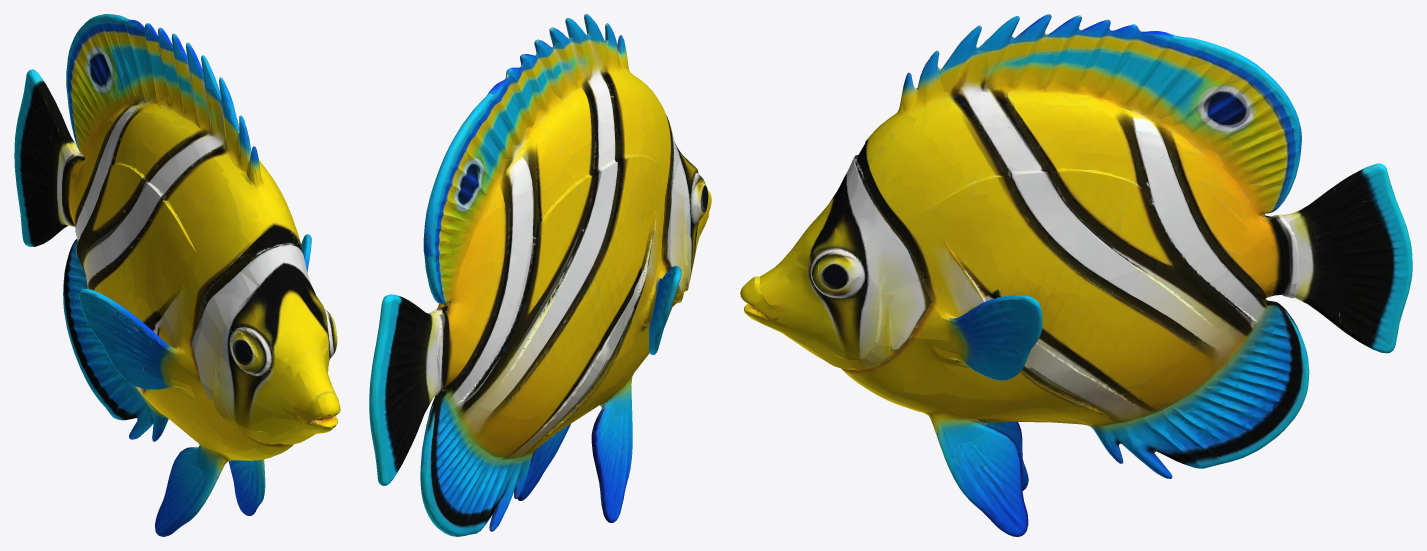
File: fish.glb
3 renders of one model, left to right at view 1: azimuth 30°, elevation 25°; view 2: azimuth 150°, elevation 25°; view 3: azimuth 270°, elevation 25°, orthographic. The views are drawn at different scales.
Size of the model in its own units: 0.7955 by 1.56 by 1.9.
1 material, 1 textured.
